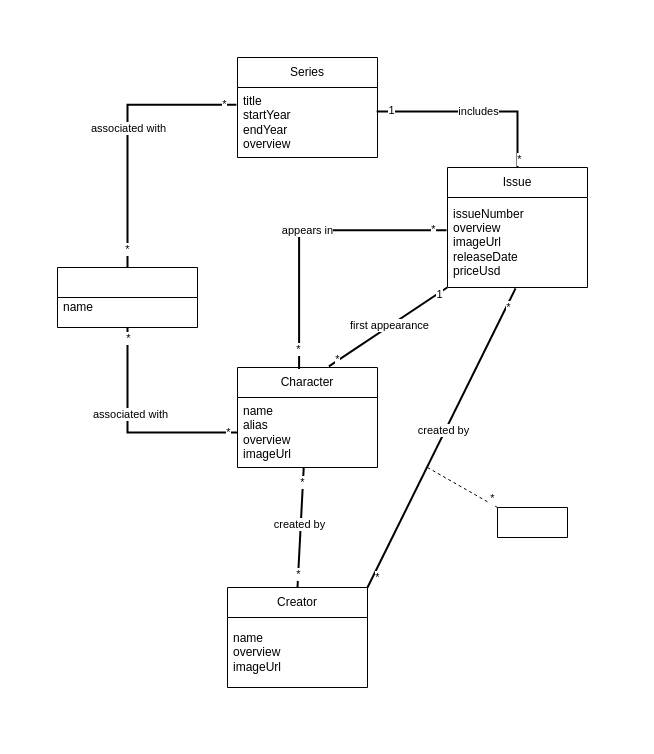
This 654x754 diagram has some shape labels left out. Here are the shapes that lost their labels. From the top down, the box of each, then its label:
(56, 266, 198, 328): Publisher
(496, 506, 568, 538): Role
